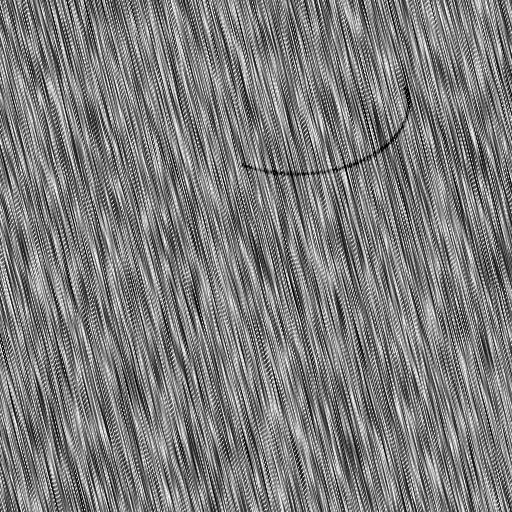DefectTypeC: (248, 85, 410, 178)
